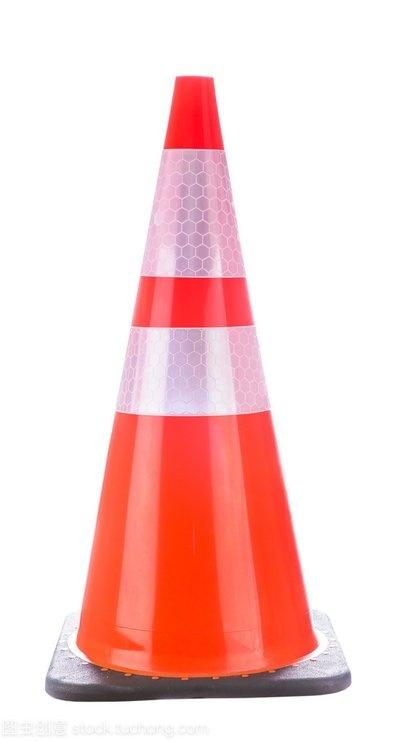cone_barrel: (40, 71, 350, 700)
